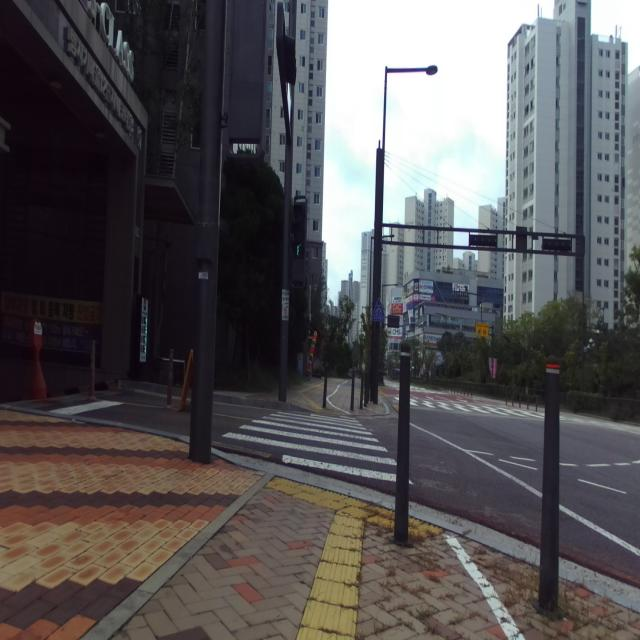횡단보도: (221, 409, 413, 485), (411, 399, 546, 423)
